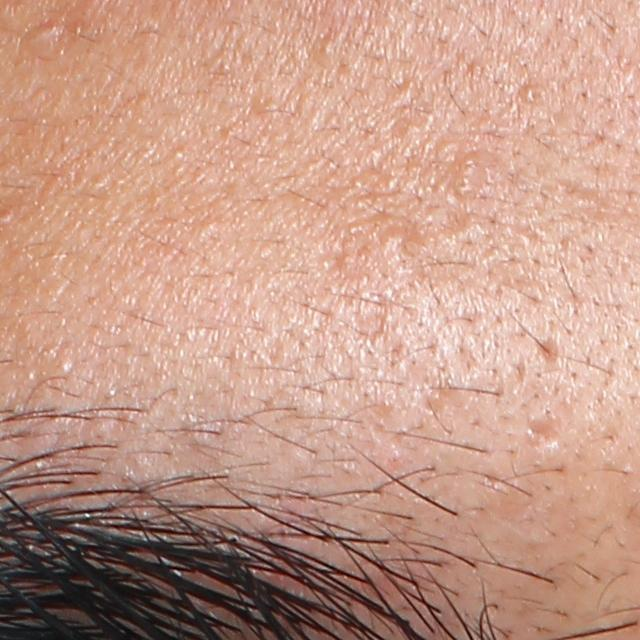atrophic_scar: (524, 412, 562, 447), (536, 335, 567, 367)
comedo: (21, 19, 67, 51), (311, 40, 334, 70), (519, 85, 545, 105), (455, 175, 479, 196)
